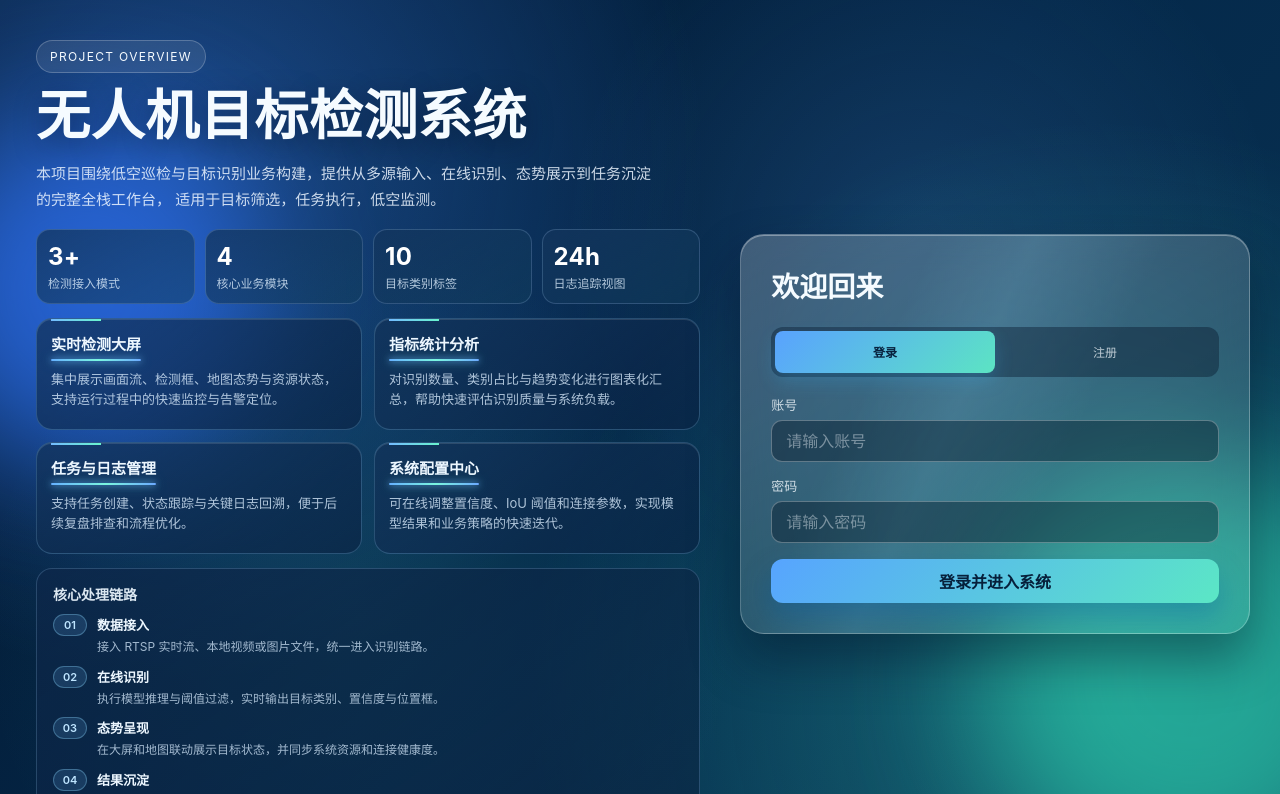
Test: AuthView › registers with account/password and switches to login
This screenshot has width=1280, height=794.
Step 1. Click the button "注册" → (1105, 352), box top-left (995, 331), bottom-right (1215, 373)
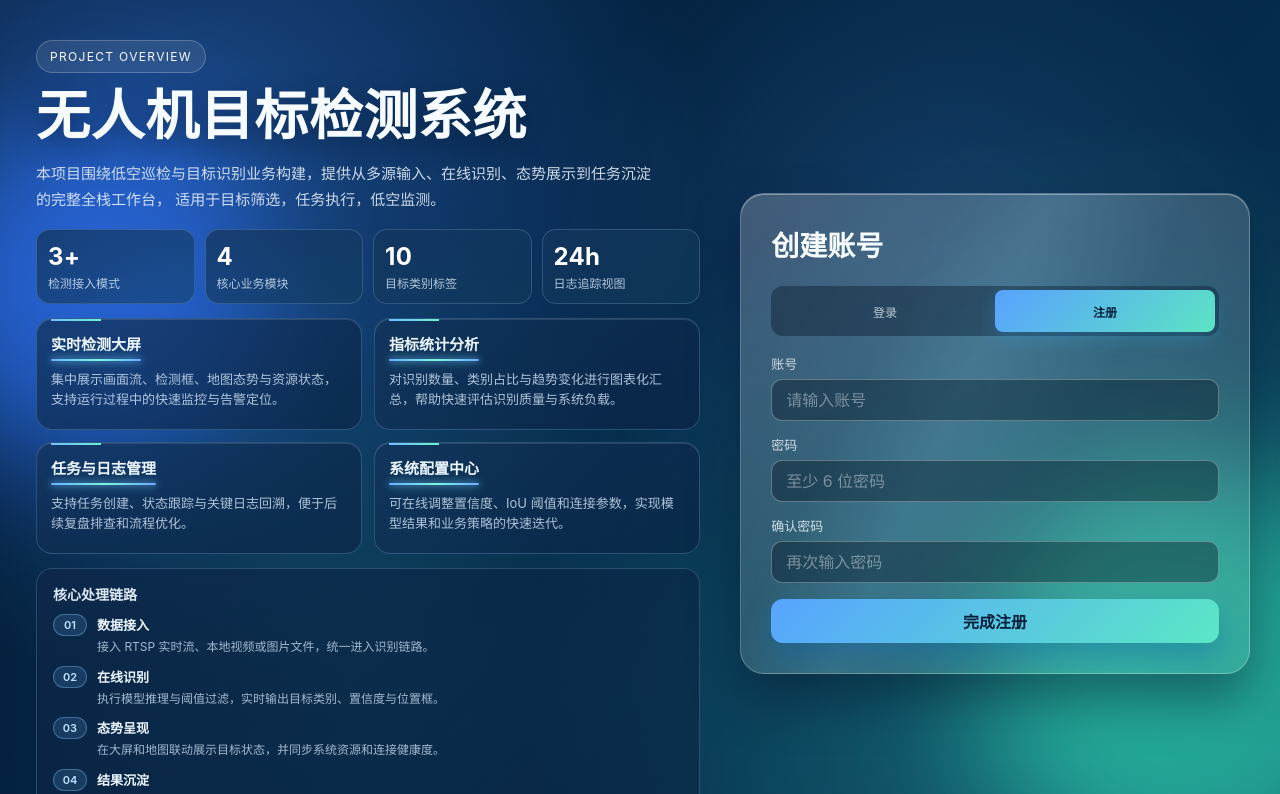
Step 2. Type "pilot" into the field labelled "账号" → (995, 400), box top-left (771, 379), bottom-right (1219, 421)
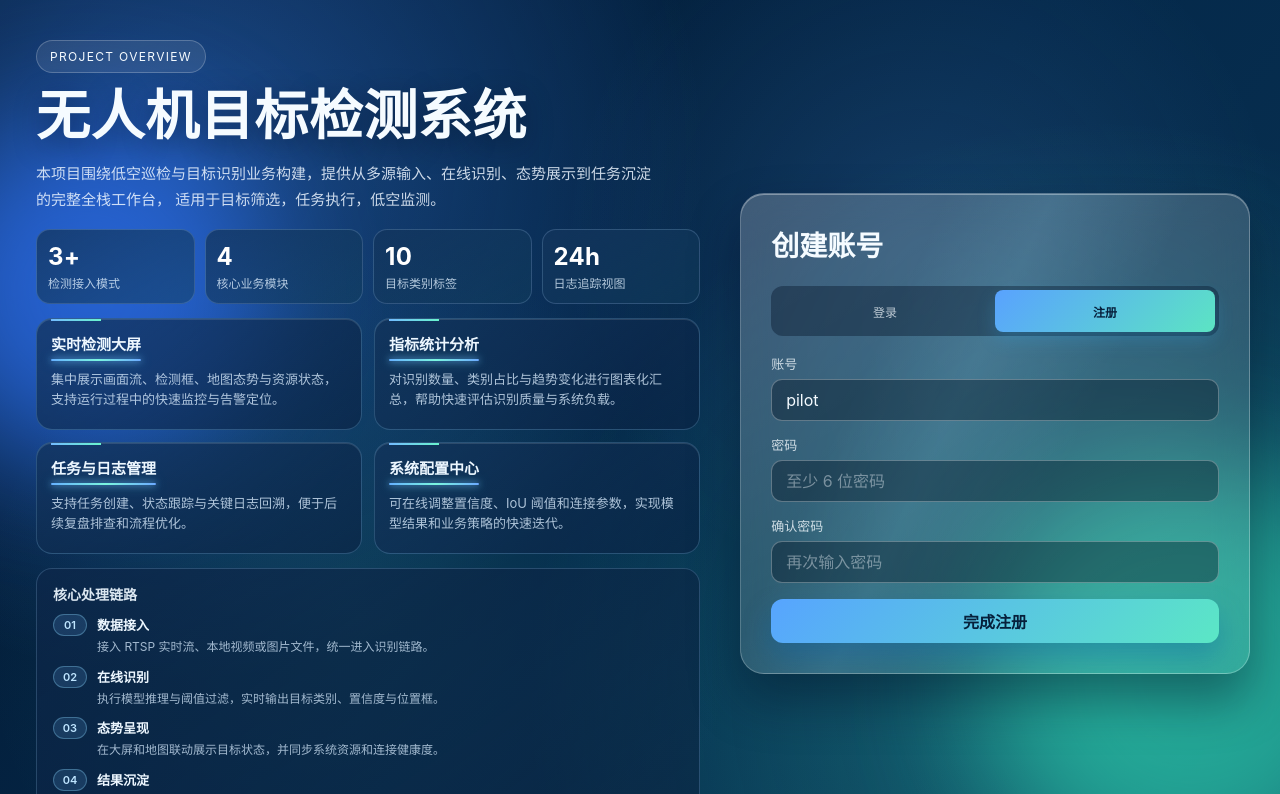
Step 3. Type "abc12345" into the password field labelled "密码" → (995, 481), box top-left (771, 460), bottom-right (1219, 502)
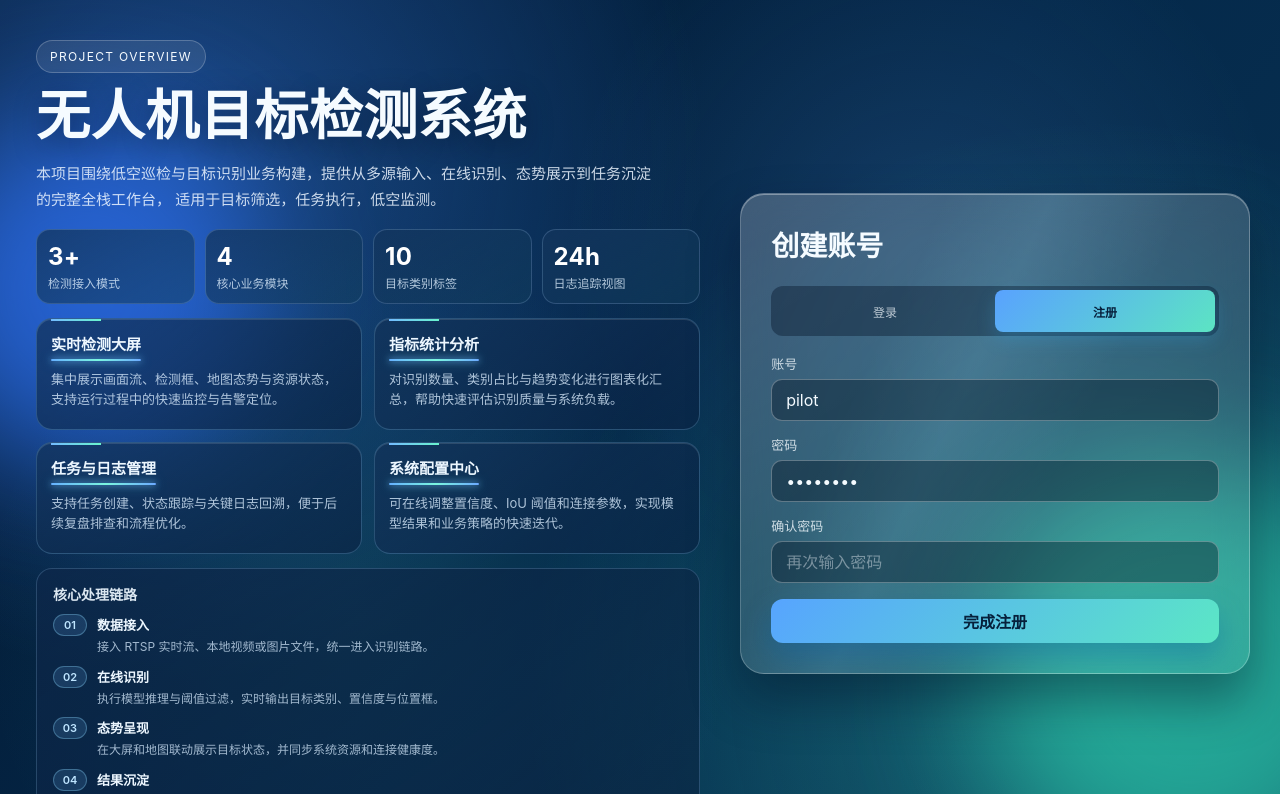
Step 4. Type "abc12345" into the password field labelled "确认密码" → (995, 562), box top-left (771, 541), bottom-right (1219, 583)
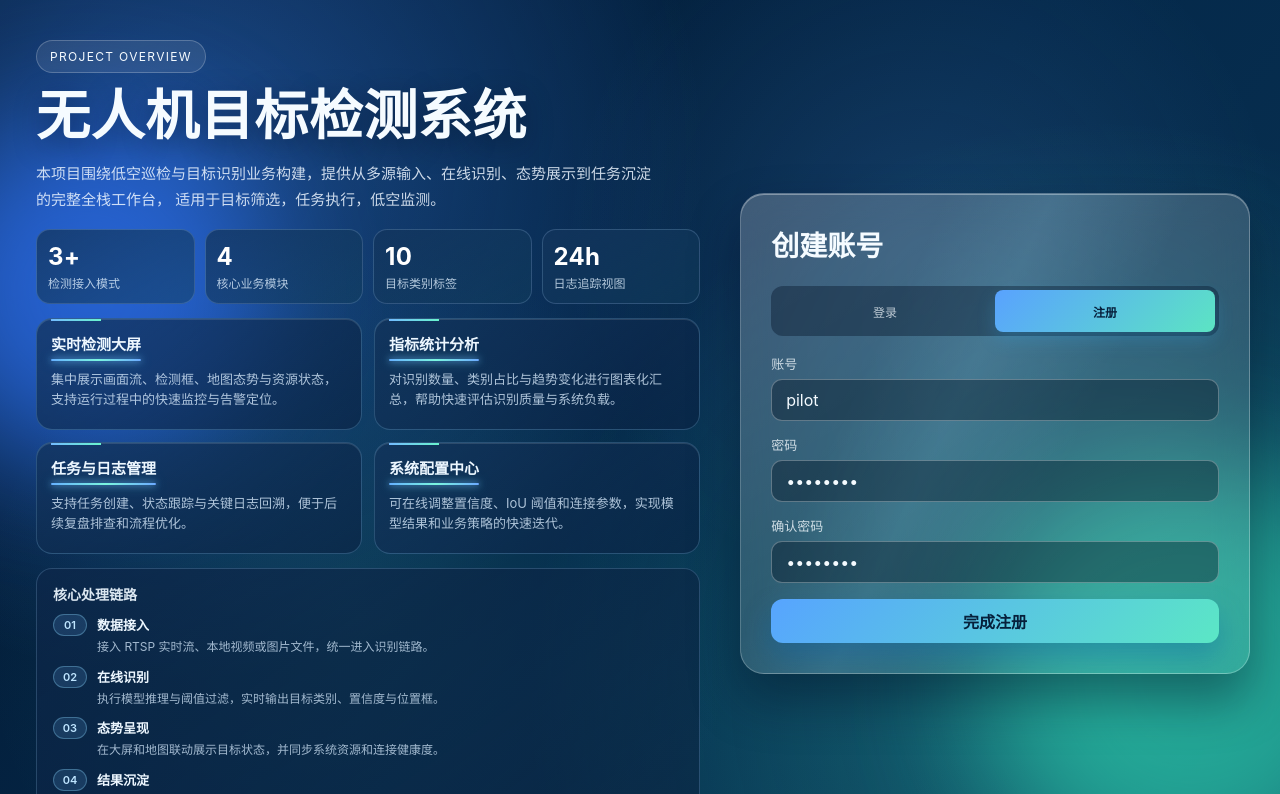
Step 5. Submit the form, box top-left (771, 354), bottom-right (1219, 643)
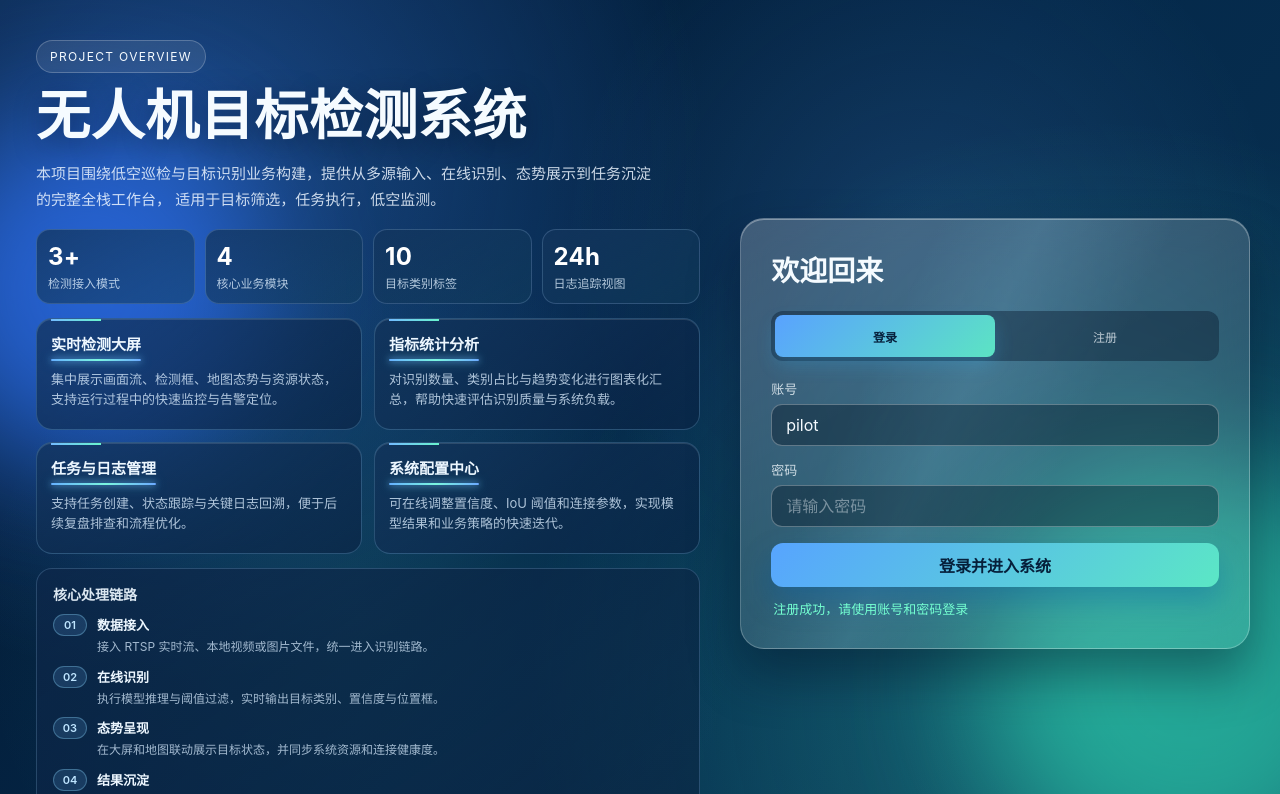
Expected: the text "登录并进入系统" is shown, top-left (771, 543), bottom-right (1219, 587)
